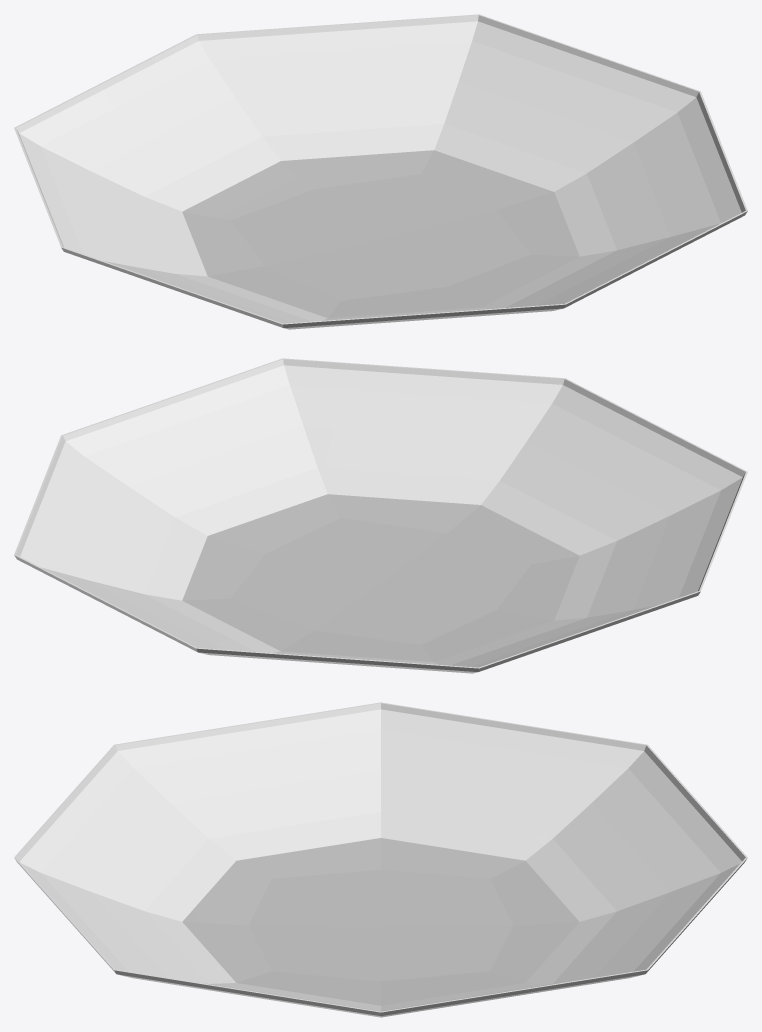
File: Plate#1Model.fbx
3 views of the same model, one above another, from view 1: azimuth 30°, elevation 25°; view 2: azimuth 150°, elevation 25°; view 3: azimuth 270°, elevation 25° (orthographic).
Parts seen in each view (by area): view 1: Plate#1Model; view 2: Plate#1Model; view 3: Plate#1Model.
Part boxes in pixels (x1=…): Plate#1Model: x1=14, y1=14, x2=747, y2=329; Plate#1Model: x1=14, y1=358, x2=747, y2=673; Plate#1Model: x1=14, y1=702, x2=747, y2=1017.
Size of the model in its own units: 62.16 by 6.5 by 62.16.
